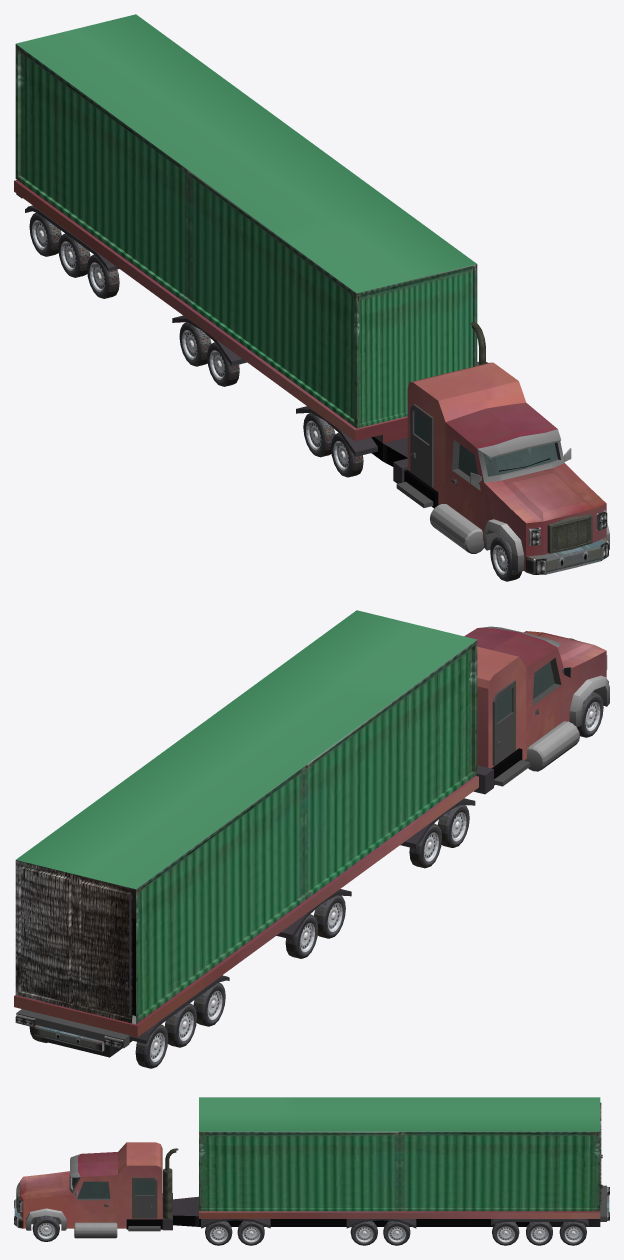
3 renders of one model, top to bottom at view 1: azimuth 30°, elevation 25°; view 2: azimuth 150°, elevation 25°; view 3: azimuth 270°, elevation 25°, orthographic. The views are drawn at different scales.
Parts seen in each view (by area): view 1: DN118_Xe1.002; view 2: DN118_Xe1.002; view 3: DN118_Xe1.002.
Boxes of the visible parts, x1=… form: DN118_Xe1.002: x1=14, y1=14, x2=609, y2=581; DN118_Xe1.002: x1=14, y1=610, x2=609, y2=1068; DN118_Xe1.002: x1=14, y1=1097, x2=609, y2=1245.
Size of the model in its own units: 2.41 by 3.64 by 17.09.
1 material, 1 textured.
